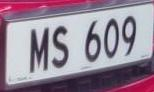0: (103, 13, 122, 64)
6: (83, 13, 104, 69)
9: (121, 12, 139, 60)
M: (27, 21, 51, 79)
S: (51, 17, 73, 77)
